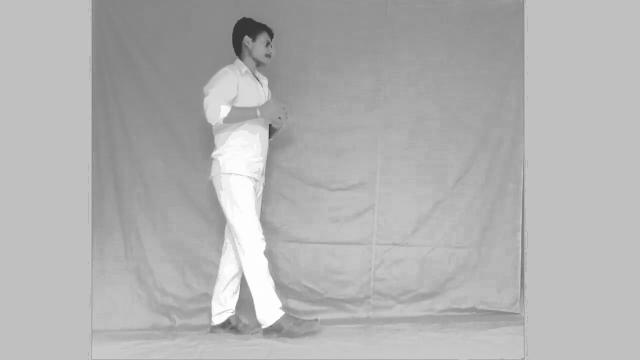berjalan: (199, 16, 321, 342)
